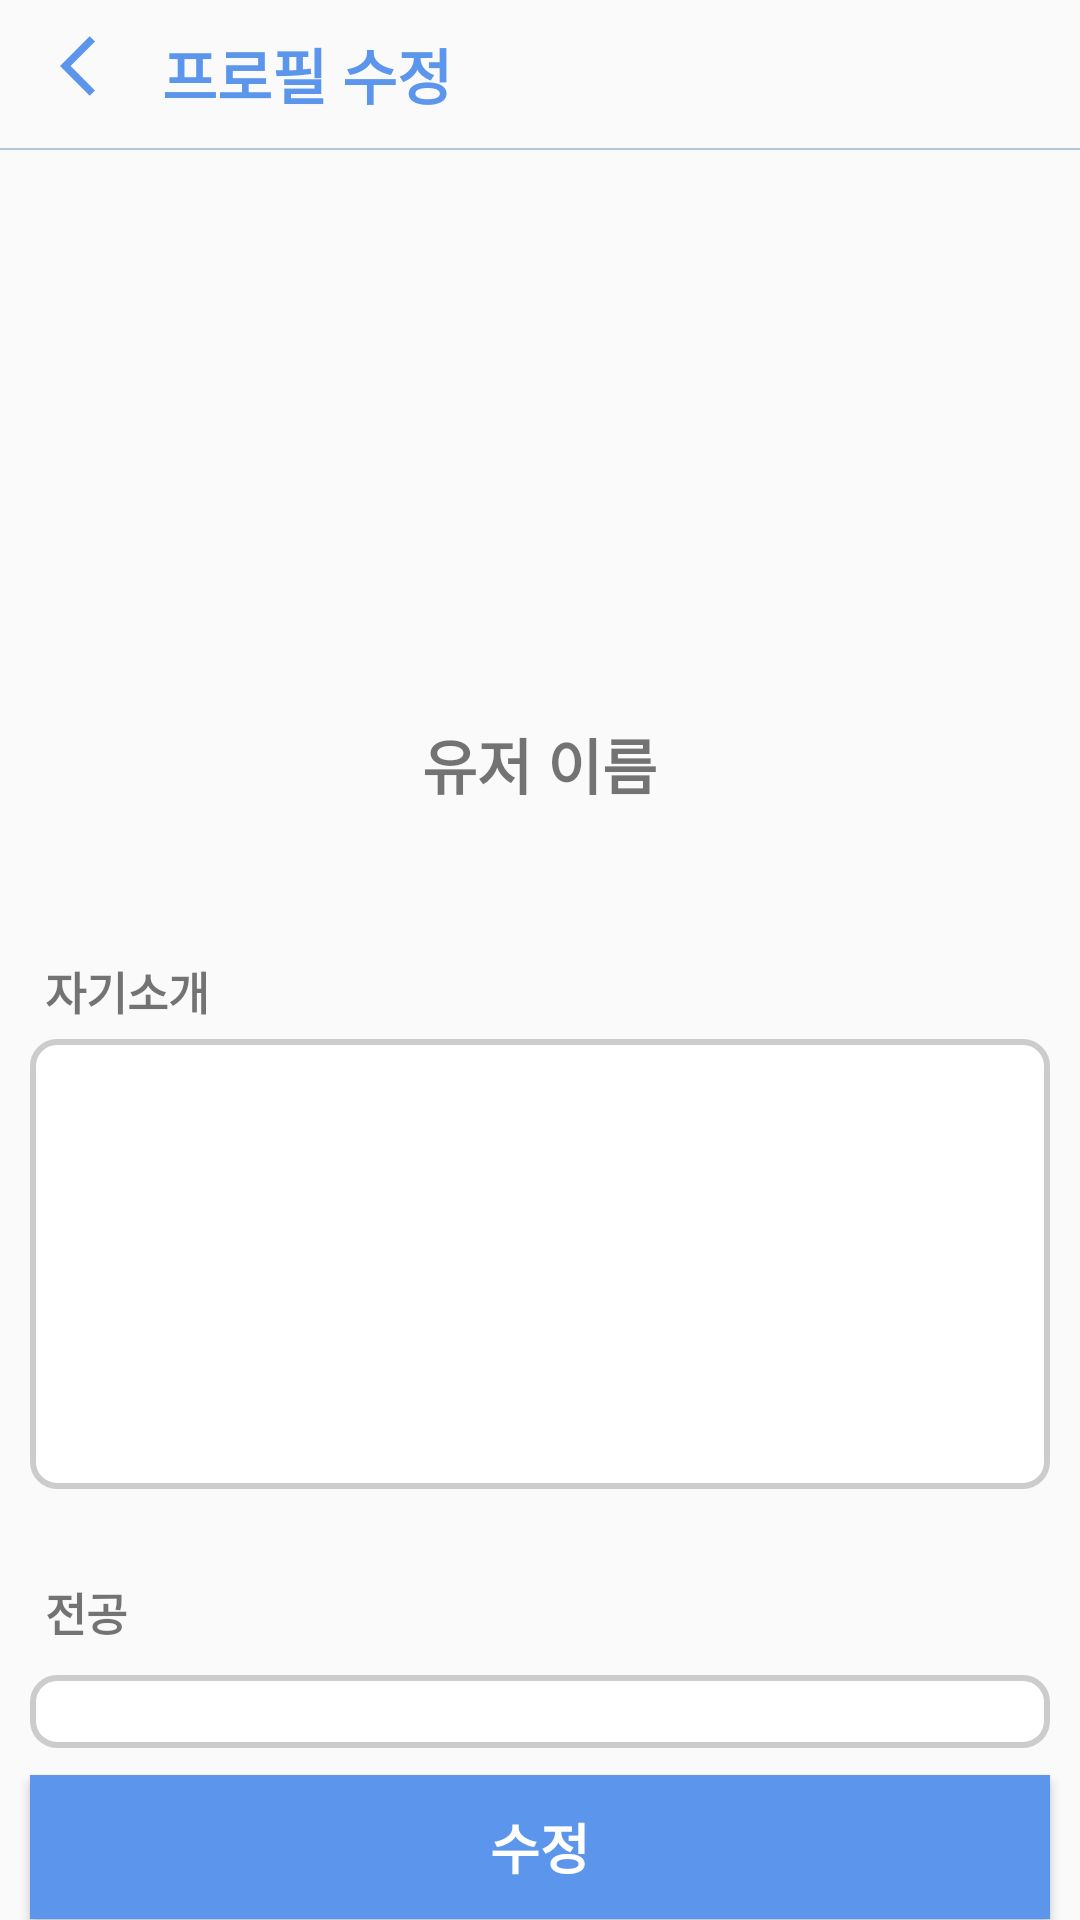

Icons on this 1080px×1920px Android screen, each with its box as (x1, y1, x2, y2):
arrow back: (60, 36, 95, 96)
